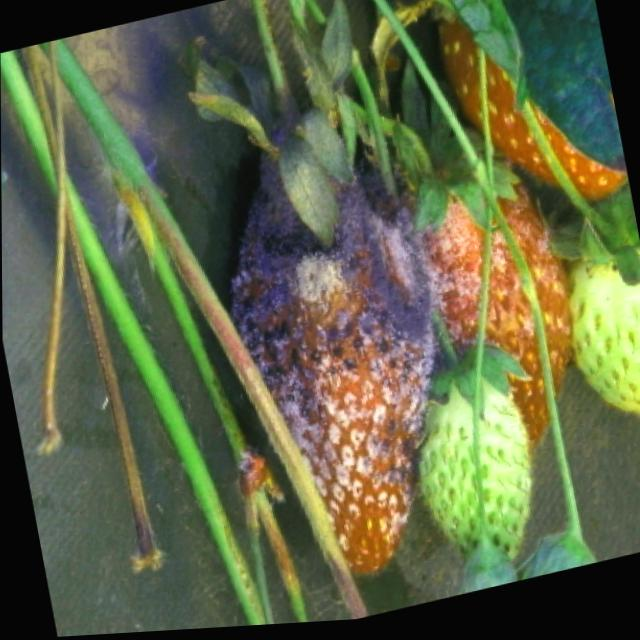Gray Mold: (230, 142, 437, 578), (407, 176, 572, 458)
